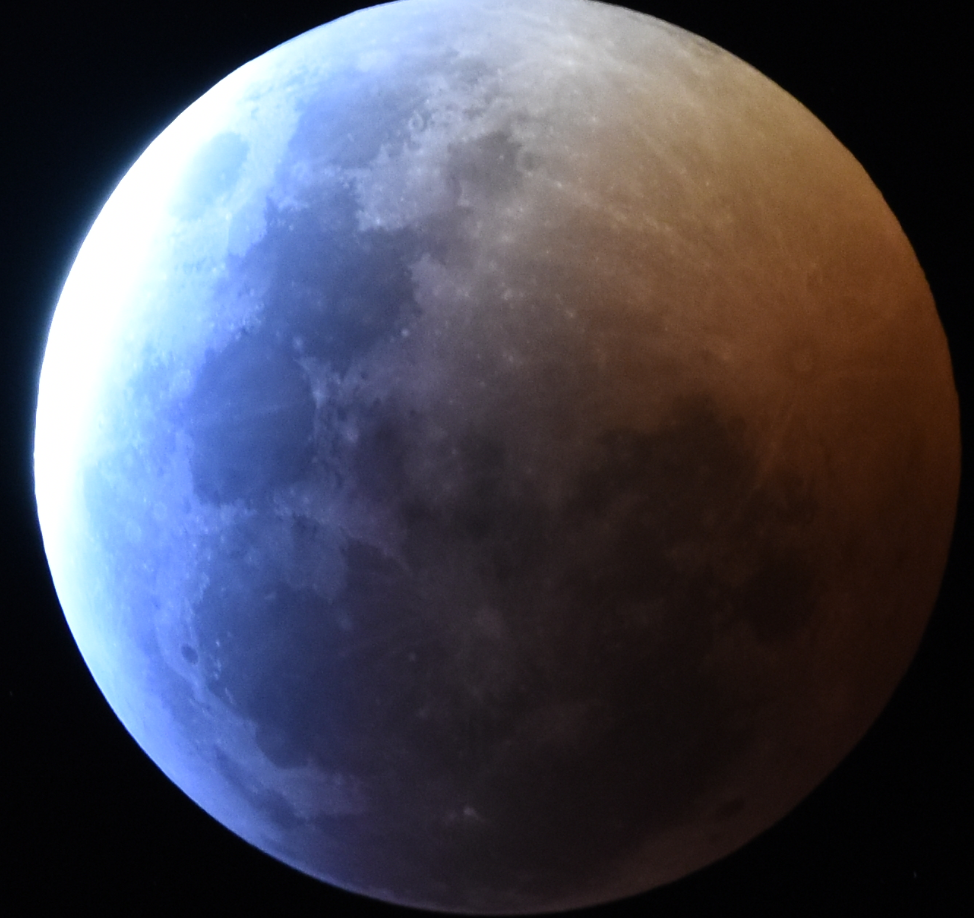crater: (692, 214, 895, 520), (440, 547, 567, 699), (511, 10, 630, 99), (439, 787, 497, 830), (703, 784, 753, 826), (169, 632, 207, 685), (344, 45, 404, 74), (579, 103, 624, 136), (488, 280, 526, 311), (397, 637, 429, 671), (283, 326, 320, 354), (305, 383, 339, 413), (488, 226, 522, 256), (333, 416, 367, 445), (498, 346, 527, 376), (362, 205, 390, 234), (442, 439, 470, 467), (390, 318, 419, 344), (557, 298, 583, 326), (552, 172, 578, 197), (425, 155, 445, 180), (494, 145, 509, 165)
